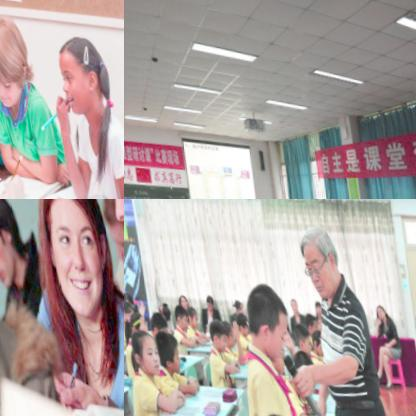head: (24, 199, 116, 323), (43, 20, 114, 124), (0, 1, 38, 108), (240, 276, 288, 356), (295, 216, 343, 295), (90, 199, 124, 277), (0, 199, 22, 289), (124, 327, 158, 375), (150, 328, 179, 372), (200, 312, 226, 354), (142, 311, 165, 341), (213, 314, 233, 347), (287, 318, 307, 351), (167, 299, 186, 331), (124, 309, 145, 333), (305, 322, 320, 353), (297, 303, 314, 330), (228, 306, 245, 332), (370, 294, 385, 317), (181, 303, 195, 327), (152, 298, 167, 320), (173, 288, 188, 309), (199, 290, 212, 312), (285, 290, 297, 312), (228, 292, 242, 310), (309, 292, 320, 313), (124, 295, 129, 324), (124, 288, 129, 307)
